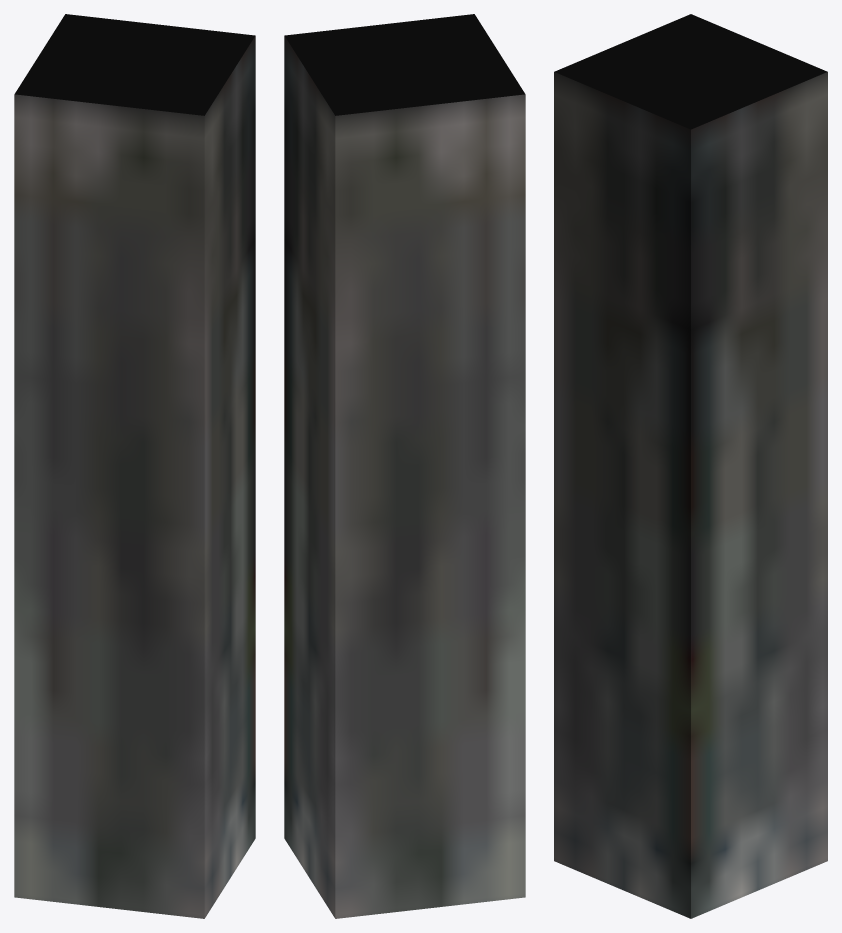
File: Shared - Armor - Tanker Truck - Damage State 19 - CVTanker_d19.glb
3 renders of one model, left to right at view 1: azimuth 30°, elevation 25°; view 2: azimuth 150°, elevation 25°; view 3: azimuth 270°, elevation 25°, orthographic.
Visible parts, largest first — view 1: CVTANKER_D19; view 2: CVTANKER_D19; view 3: CVTANKER_D19.
Boxes of the visible parts, x1=… form: CVTANKER_D19: x1=14, y1=14, x2=255, y2=918; CVTANKER_D19: x1=284, y1=14, x2=525, y2=918; CVTANKER_D19: x1=554, y1=14, x2=827, y2=918.
Bounding box in the file's own units: 1.79 × 5.69 × 1.79.
Materials: 1 (1 with a texture image).
